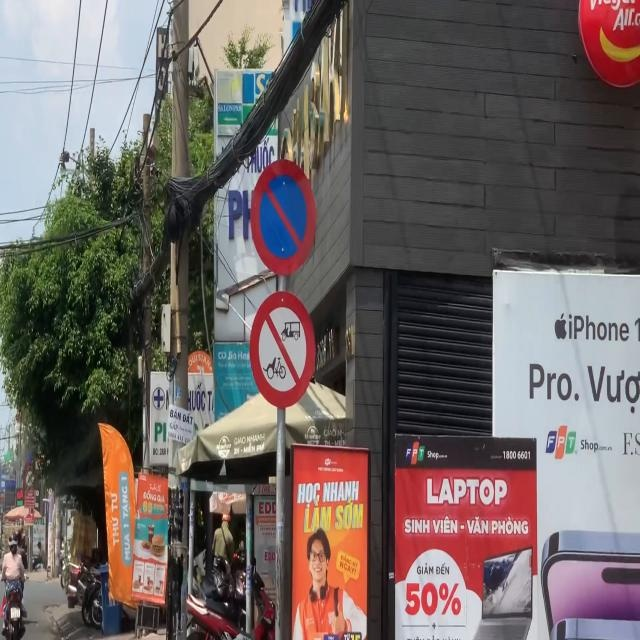bien_cam: (250, 154, 318, 279)
